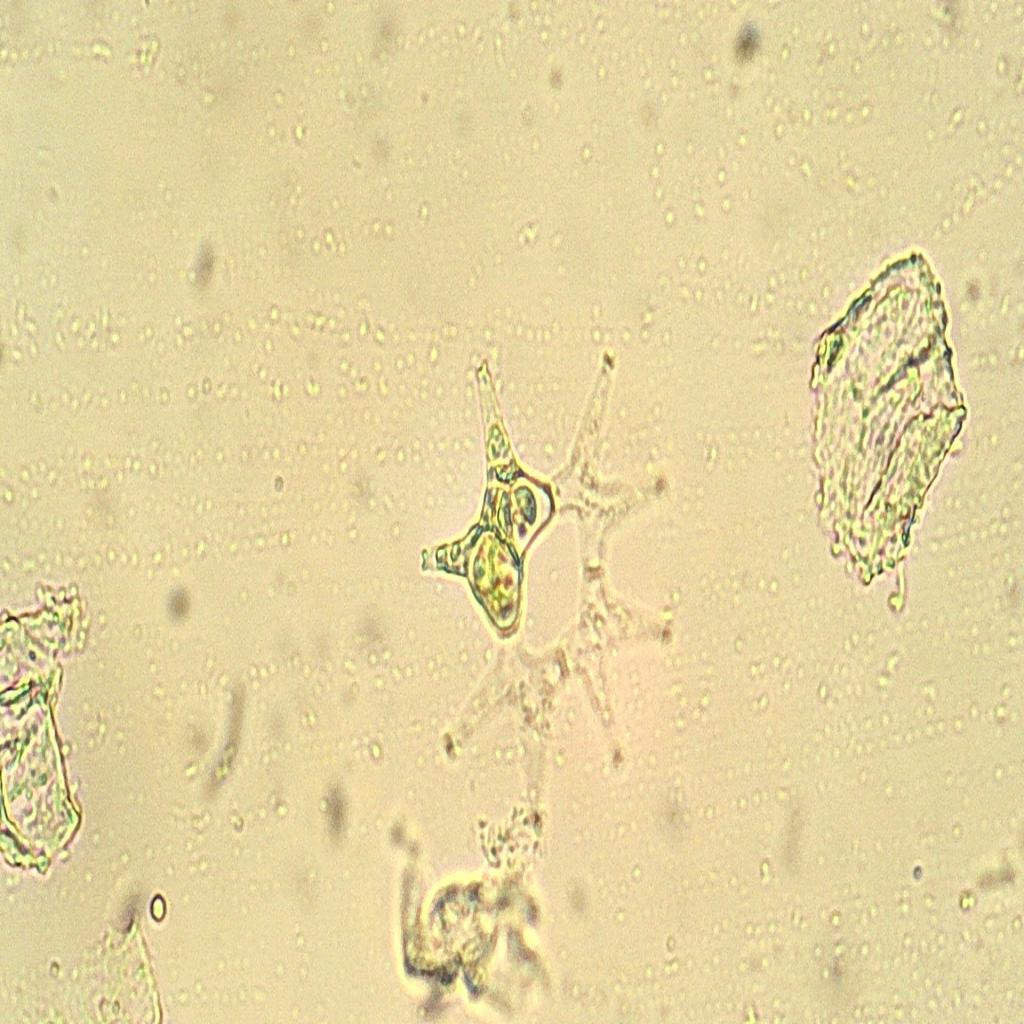Pediastrum_75TH: (400, 311, 694, 851)
